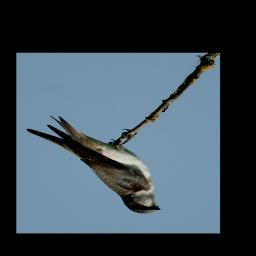Swallow: (26, 115, 161, 214)
